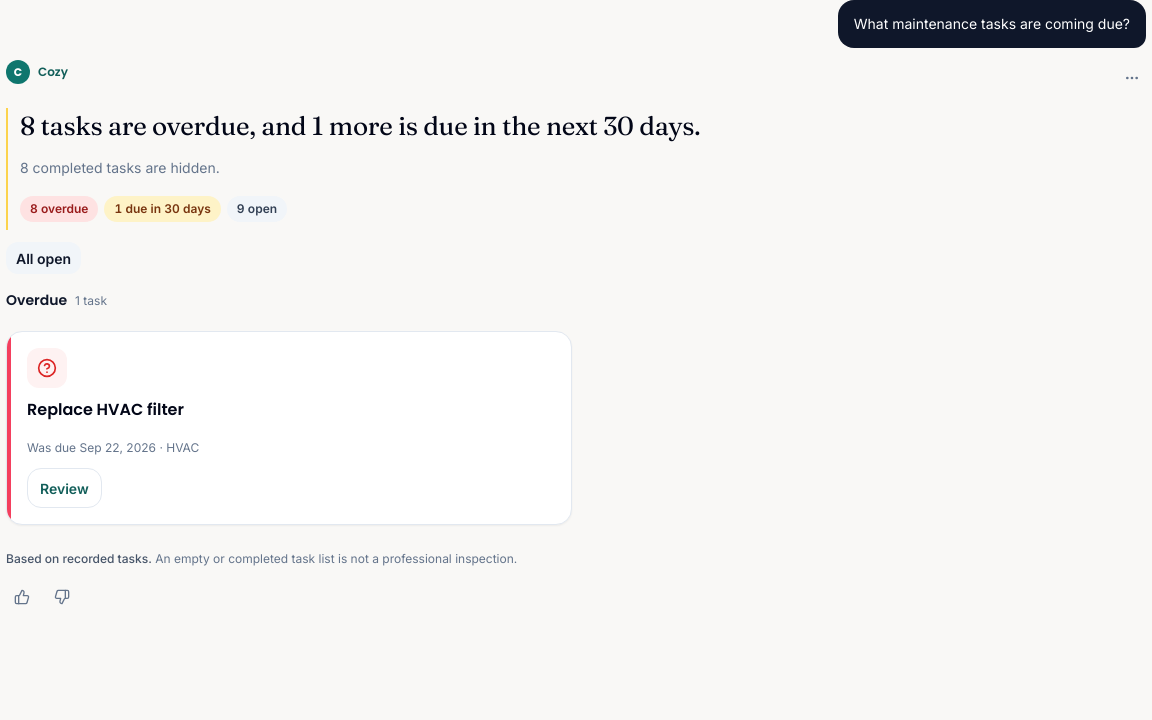
Test case: calm Maintenance answer › opens Review as in-Ask canonical detail instead of expanding row controls
The width and height of the screenshot is (1152, 720).
Click the button with aria-label "Review task: Replace HVAC filter" at (64, 488), box [27,468,102,508]
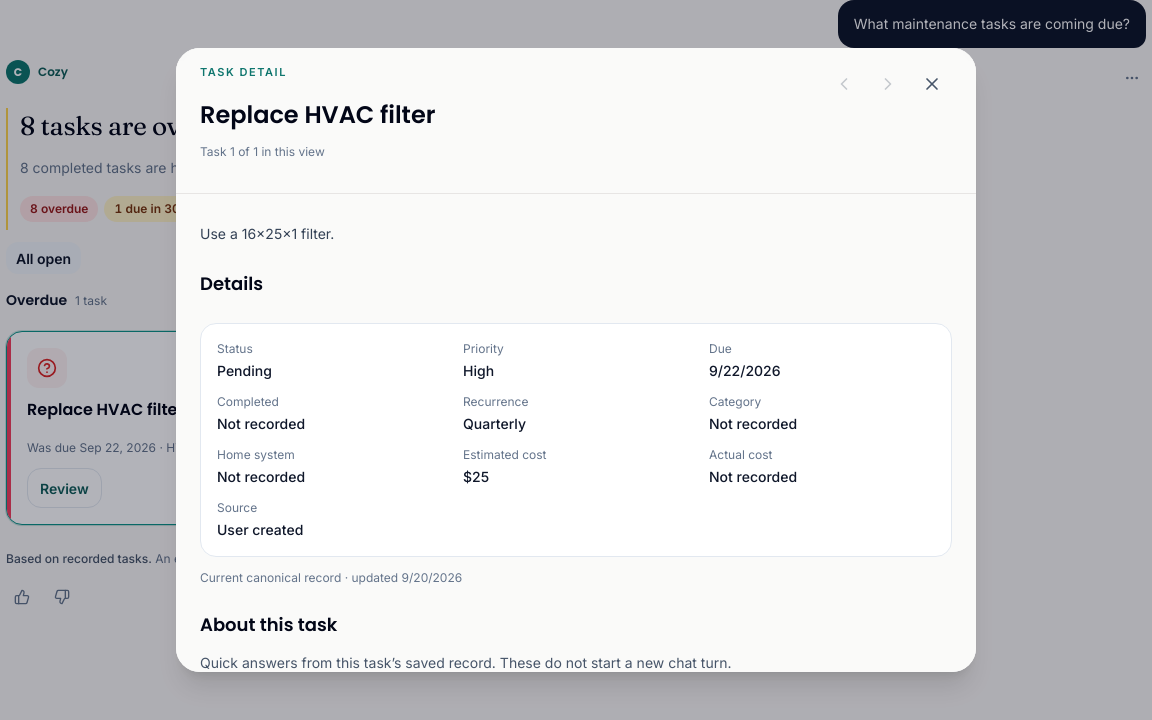
Expected: the text "Use a 16x25x1 filter." is shown, [200,225,334,242]
